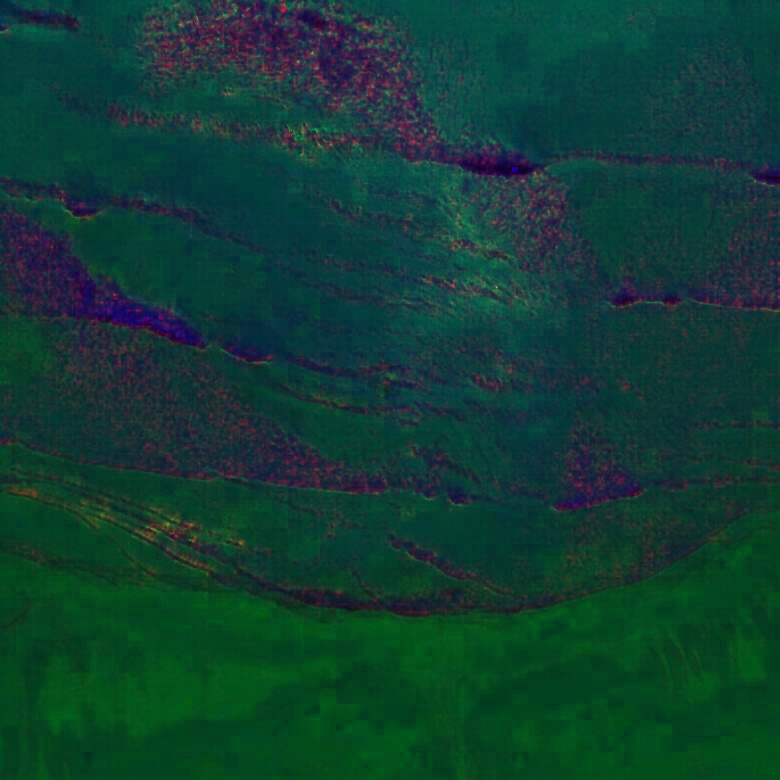rip_current: (326, 114, 656, 607)
